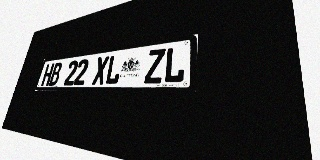2: (73, 59, 90, 85), (63, 60, 79, 85)
B: (48, 62, 63, 86)
H: (41, 63, 55, 86)
L: (163, 45, 186, 83), (104, 54, 123, 85)
X: (92, 56, 109, 85)
Z: (144, 48, 166, 84)
